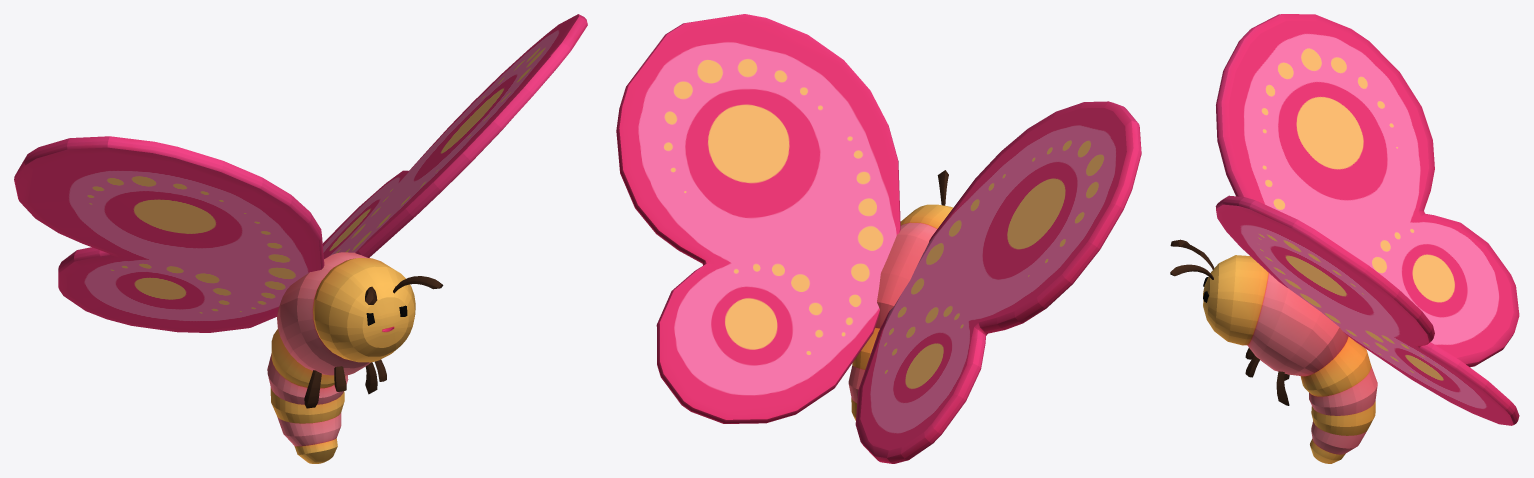
The model's file is butterfly.fbx.
3 views of the same model, side by side, from view 1: azimuth 30°, elevation 25°; view 2: azimuth 150°, elevation 25°; view 3: azimuth 270°, elevation 25° (orthographic). The views are drawn at different scales.
Visible parts, largest first — view 1: butterfly; view 2: butterfly; view 3: butterfly.
Boxes of the visible parts, left/top/right/bottom form: butterfly: left=14, top=14, right=587, bottom=463; butterfly: left=616, top=14, right=1141, bottom=463; butterfly: left=1170, top=14, right=1519, bottom=463.
Bounding box in the file's own units: 176 × 125 × 113.
1 material, 1 textured.
